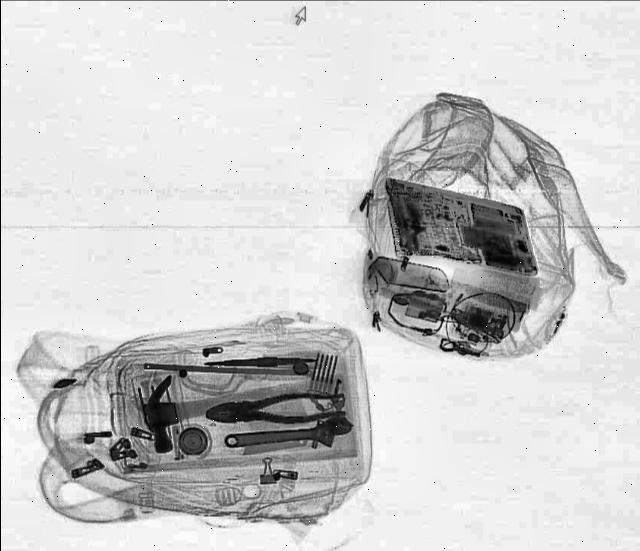Pliers: (204, 390, 348, 428)
Wrench: (223, 413, 357, 457)
